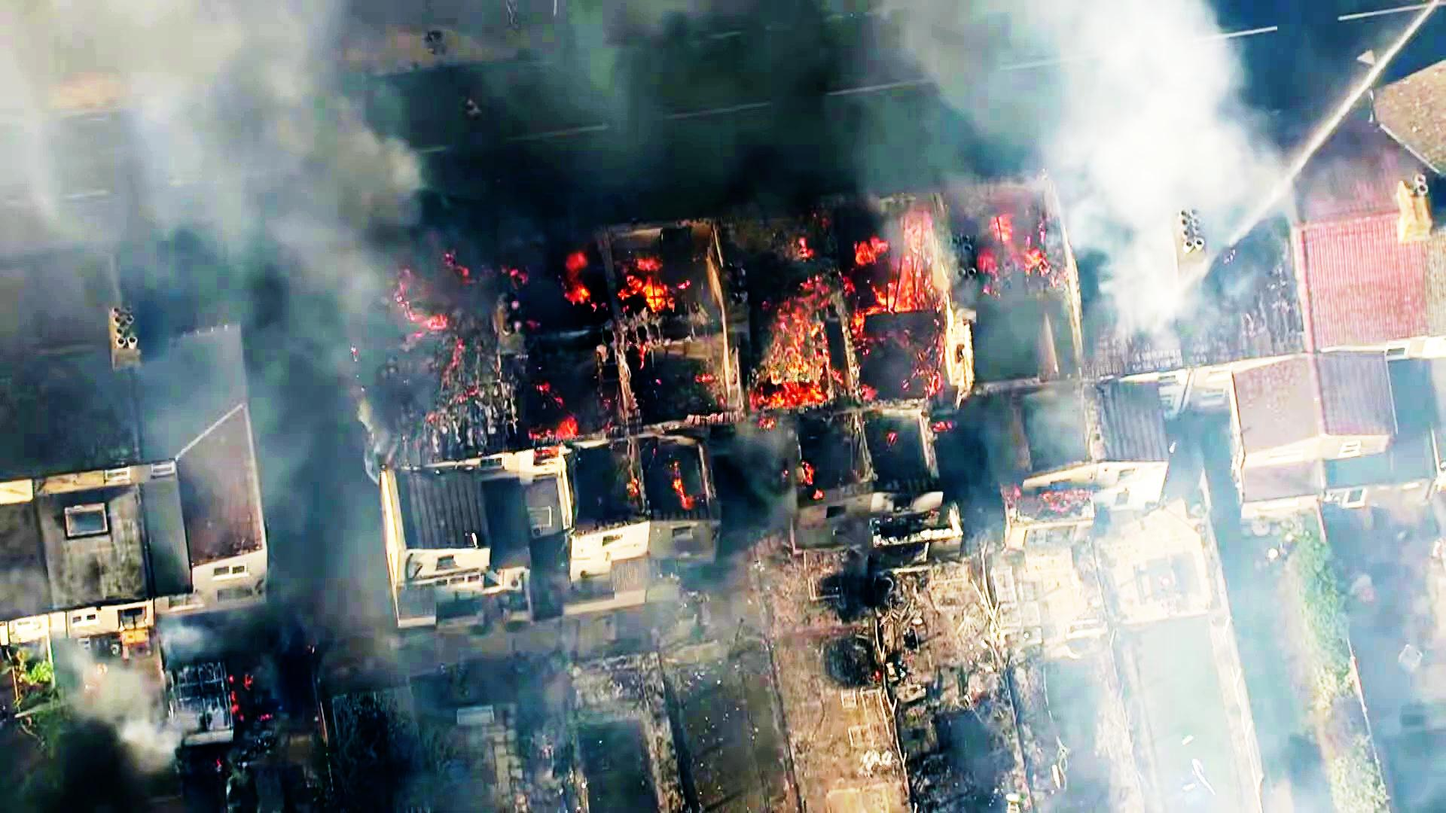fire: (826, 192, 934, 311), (748, 279, 829, 394)
smoke: (63, 0, 351, 211), (1029, 8, 1245, 230)
